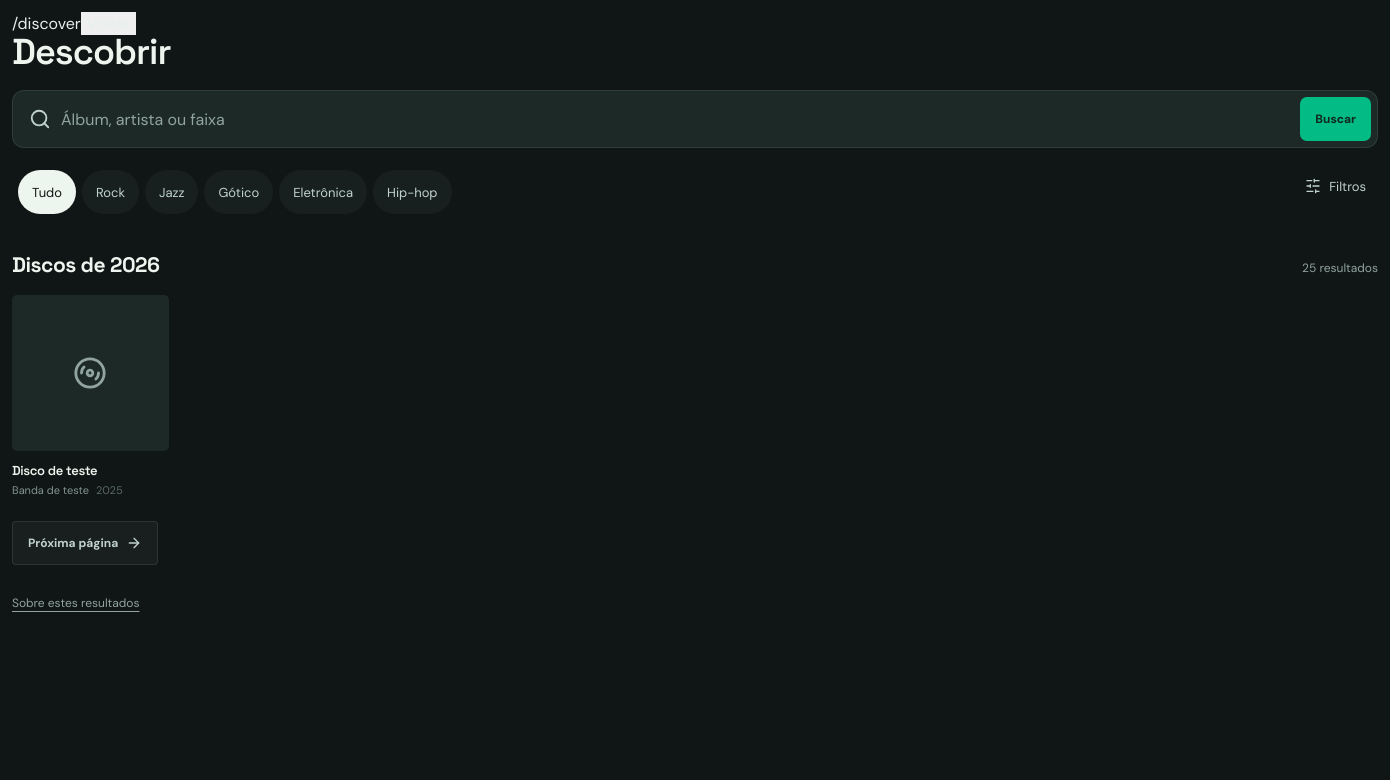
Test: DiscoverPage › starts with albums instead of empty shelves and keeps advanced filters collapsed
expect the heading "Disco de teste" is shown: met, box [12,462,97,479]
expect the search field named "Buscar álbuns, artistas, faixas ou pessoas" is shown: met, box [59,97,1292,141]
Click the button "Filtros".
click(1336, 186)  # box [1293,164,1378,208]
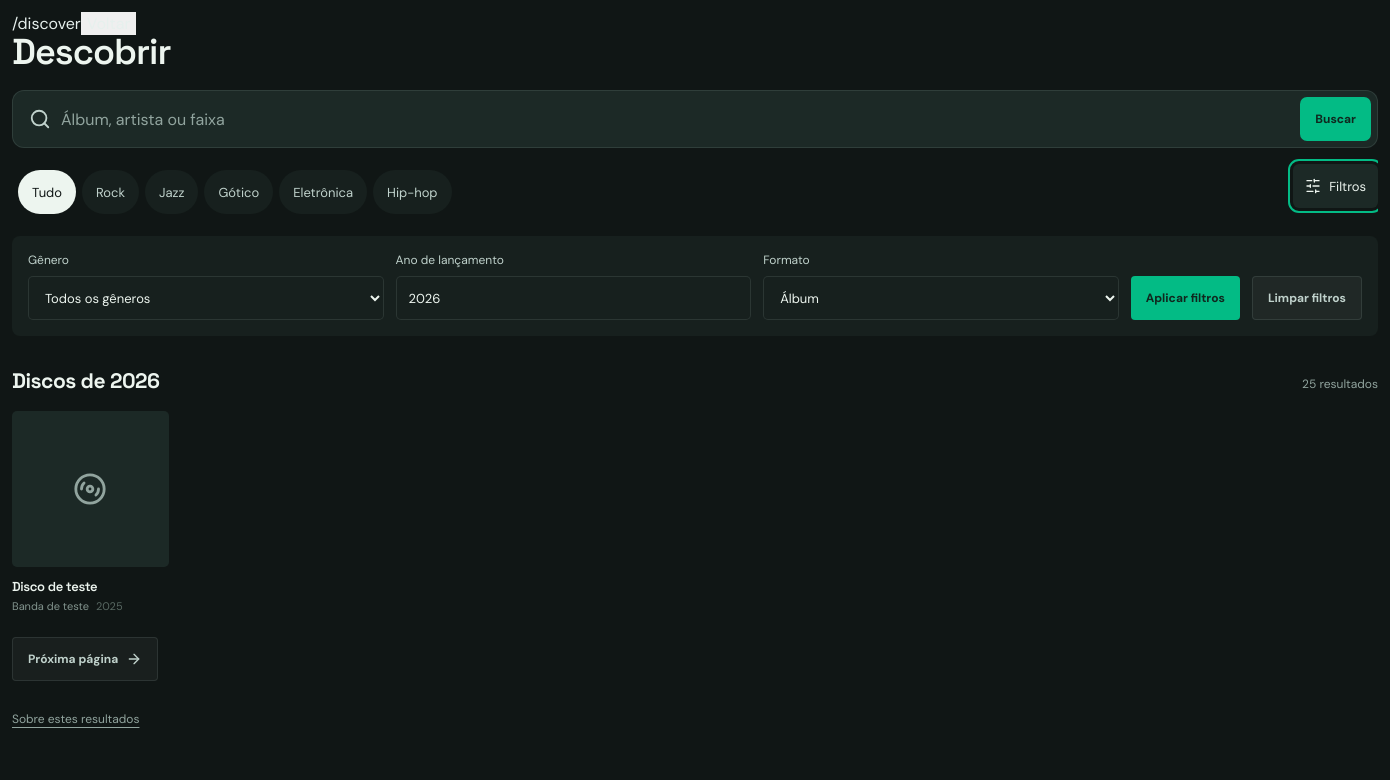
expect the number field labelled "Ano de lançamento" is shown: met, box [396,276,751,320]
